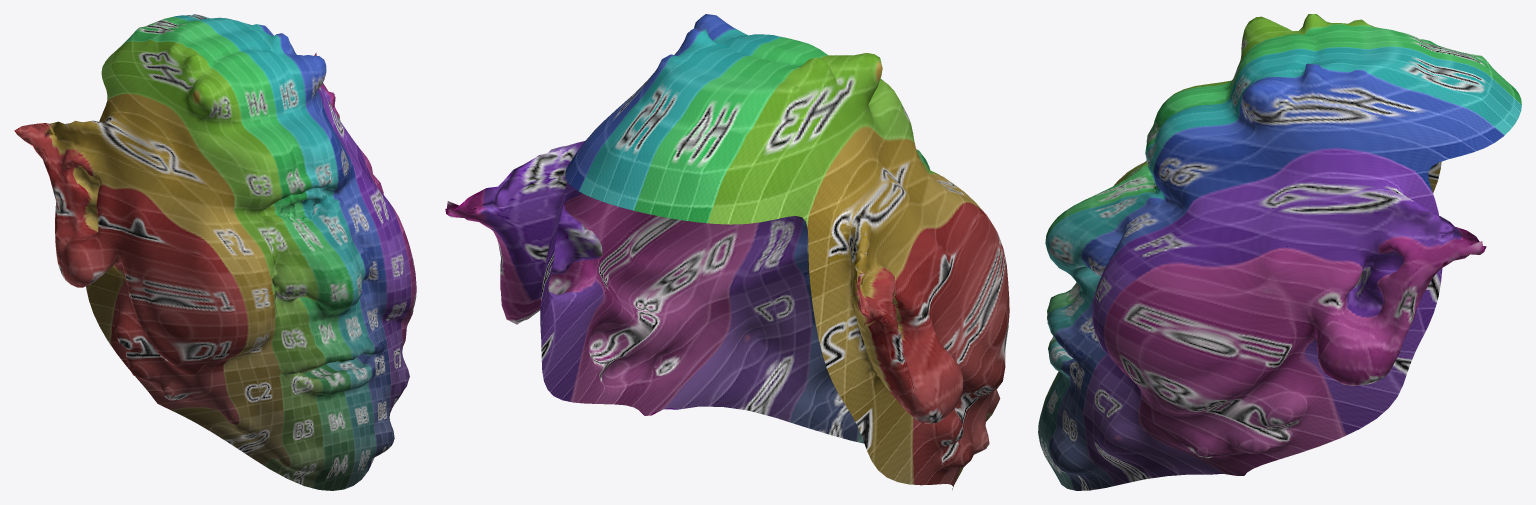
3 renders of one model, left to right at view 1: azimuth 30°, elevation 25°; view 2: azimuth 150°, elevation 25°; view 3: azimuth 270°, elevation 25°, orthographic. The views are drawn at different scales.
Visible parts, largest first — view 1: pMesh1; view 2: pMesh1; view 3: pMesh1.
Part boxes in pixels (bbox=[...]): pMesh1: bbox=[14, 14, 416, 490]; pMesh1: bbox=[445, 14, 1009, 489]; pMesh1: bbox=[1038, 14, 1521, 490].
Size of the model in its own units: 1.06 by 1.19 by 1.18.
Materials: 1 (1 with a texture image).
